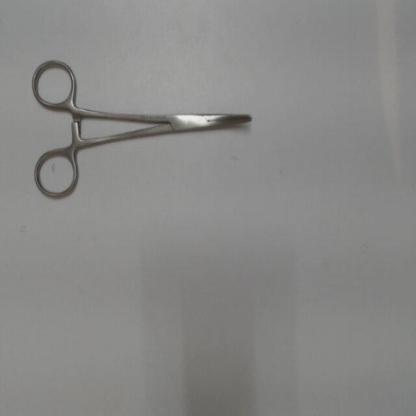Crile Artery Forceps: (32, 52, 258, 200)
